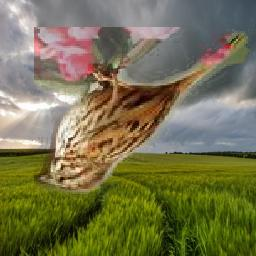Sparrow: (34, 28, 252, 197)
